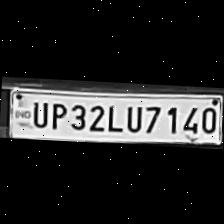0: (198, 102, 218, 134)
1: (160, 101, 178, 133)
2: (86, 99, 106, 131)
3: (66, 98, 88, 130)
4: (178, 102, 200, 134)
7: (140, 101, 162, 133)
L: (103, 99, 123, 131)
P: (45, 98, 67, 130)
U: (121, 100, 143, 132), (28, 96, 48, 126)
